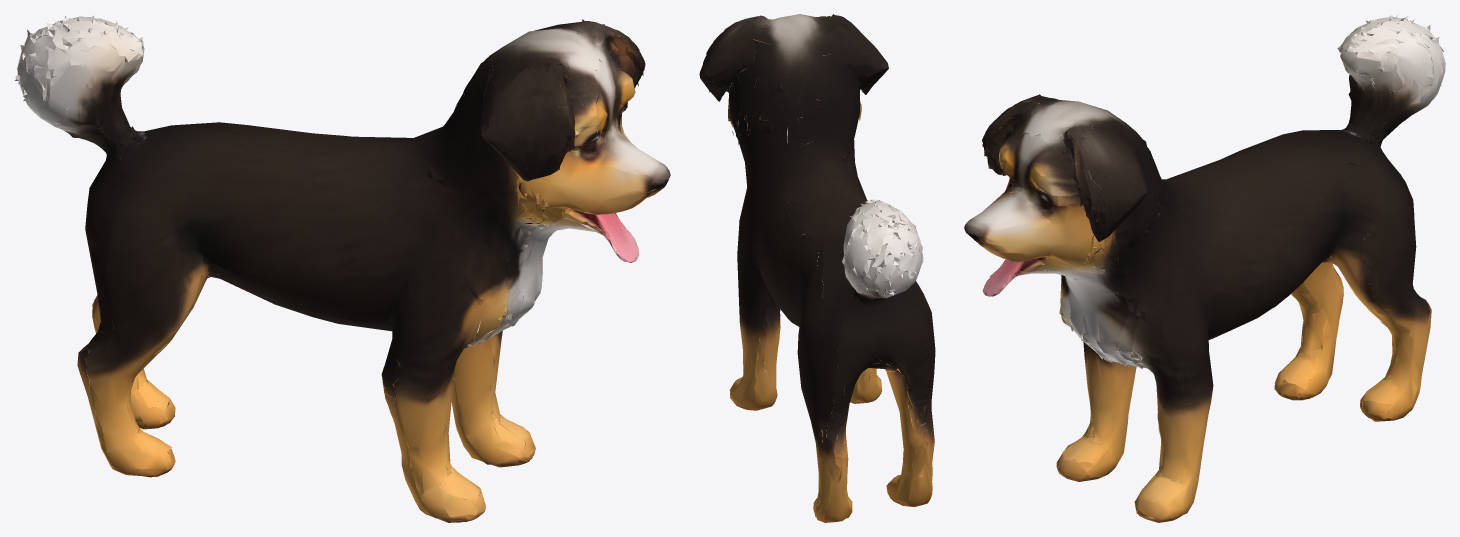
Rendered from Tricolor1.glb.
3 renders of one model, left to right at view 1: azimuth 30°, elevation 25°; view 2: azimuth 150°, elevation 25°; view 3: azimuth 270°, elevation 25°, orthographic. The views are drawn at different scales.
Visible parts, largest first — view 1: Dog_Body; view 2: Dog_Body; view 3: Dog_Body.
Boxes of the visible parts, left/top/right/bottom form: Dog_Body: left=14, top=15, right=670, bottom=522; Dog_Body: left=699, top=14, right=935, bottom=522; Dog_Body: left=964, top=14, right=1445, bottom=522.
Bounding box in the file's own units: 1.52 × 1.49 × 1.6.
1 material, 1 textured.
